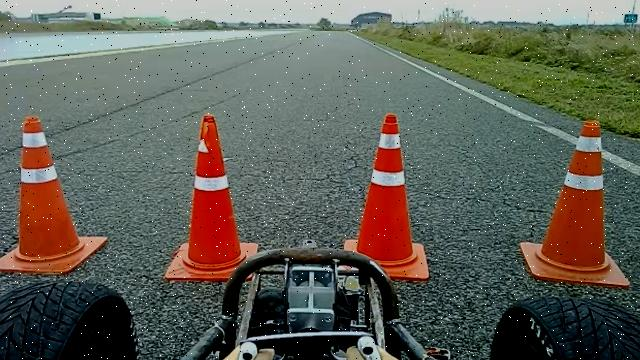red cone: (520, 118, 630, 288), (0, 114, 109, 275), (342, 112, 430, 282)
yellow cone: (164, 113, 258, 282)
